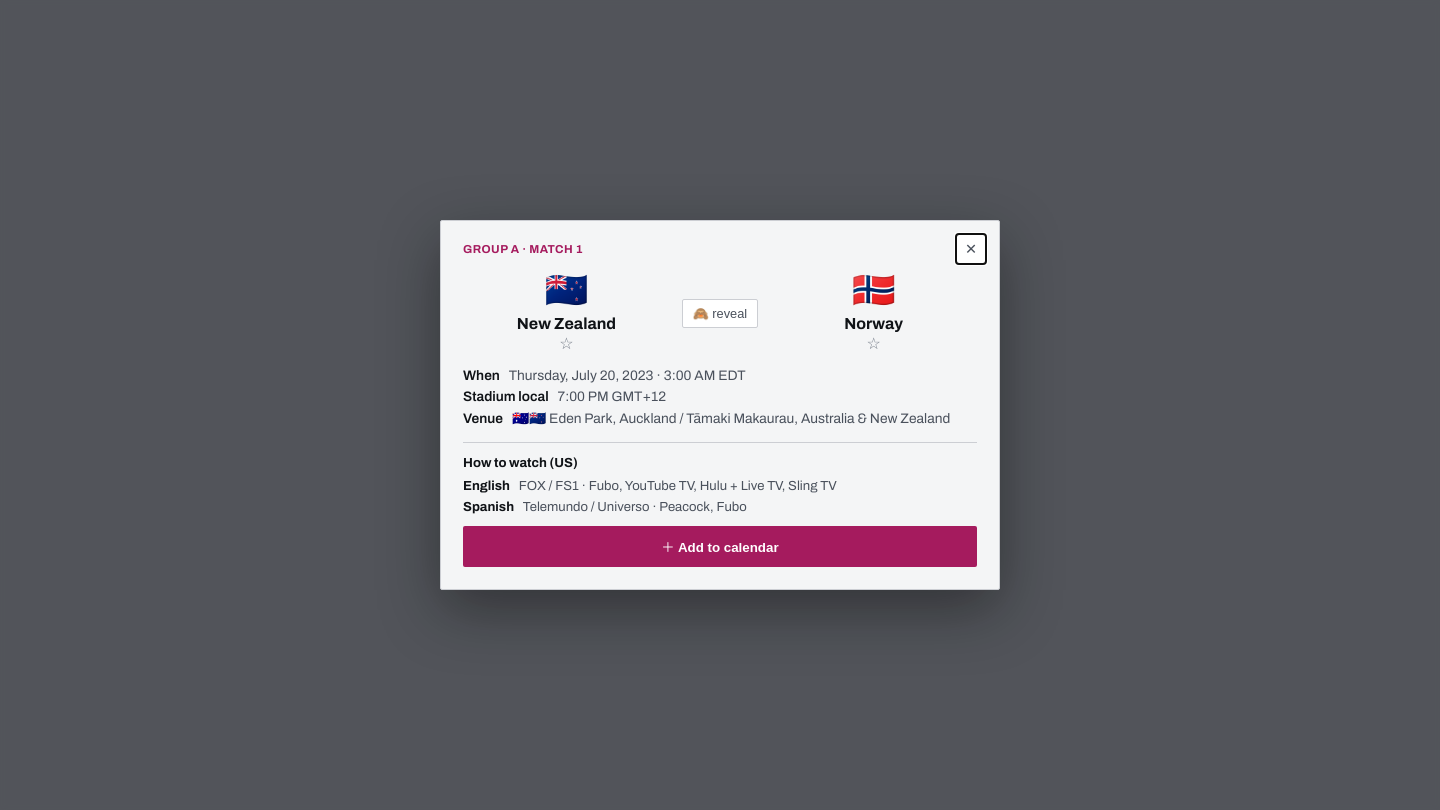
Test: MatchDetail normal states (full coverage) › spoiler reveal flow
The width and height of the screenshot is (1440, 810).
Click the button "🙈 reveal" at (720, 314), box [682,299,758,328]
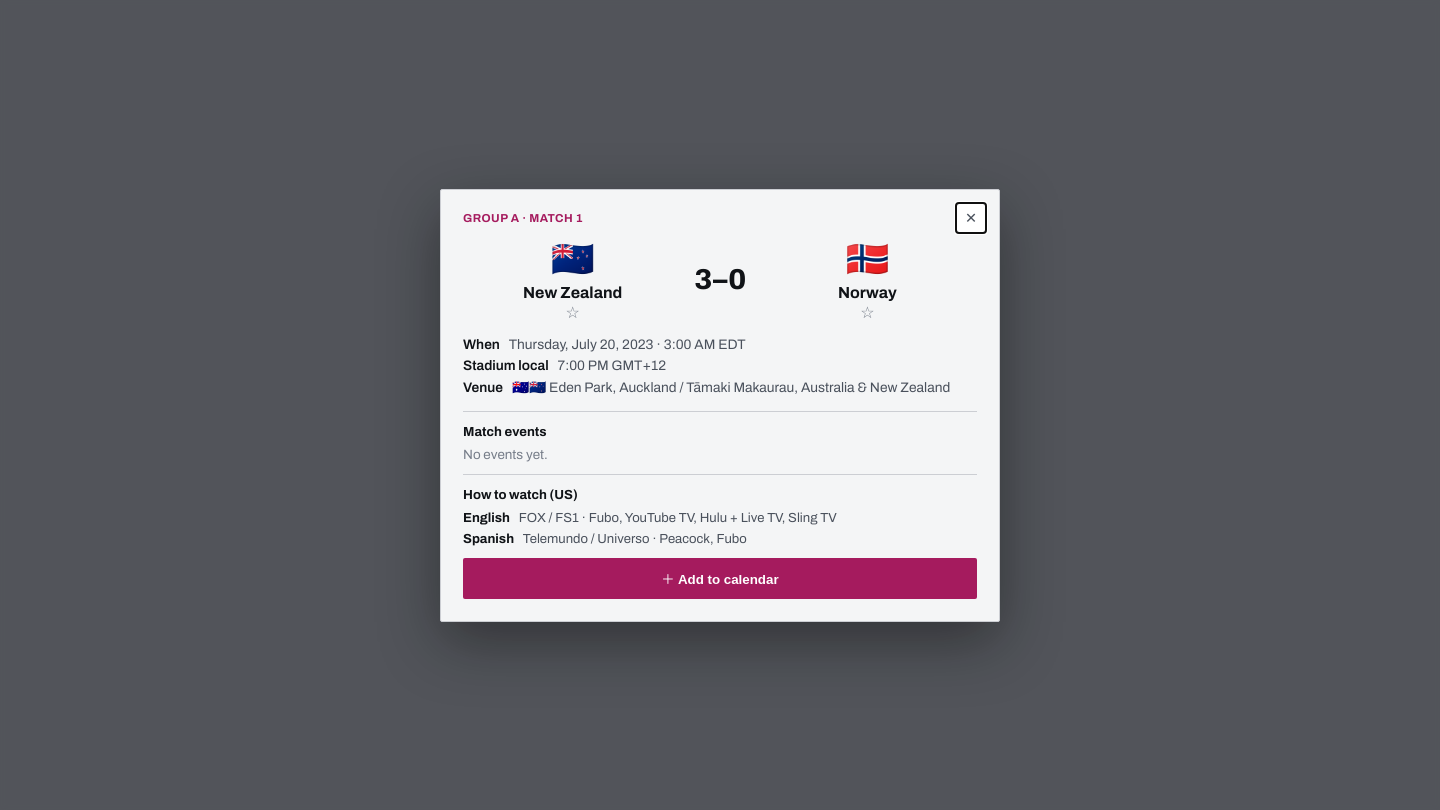
Result: the text "3–0" is shown at [694,264,746,294]
